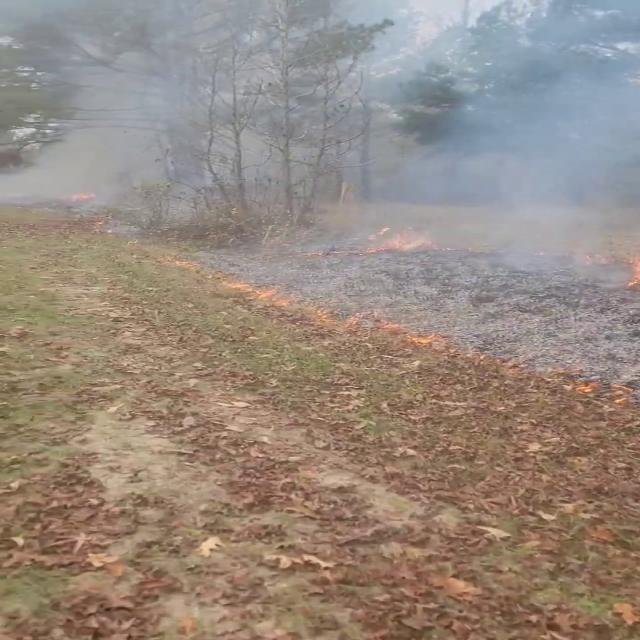Smoke: (317, 0, 636, 304), (2, 1, 220, 230)
